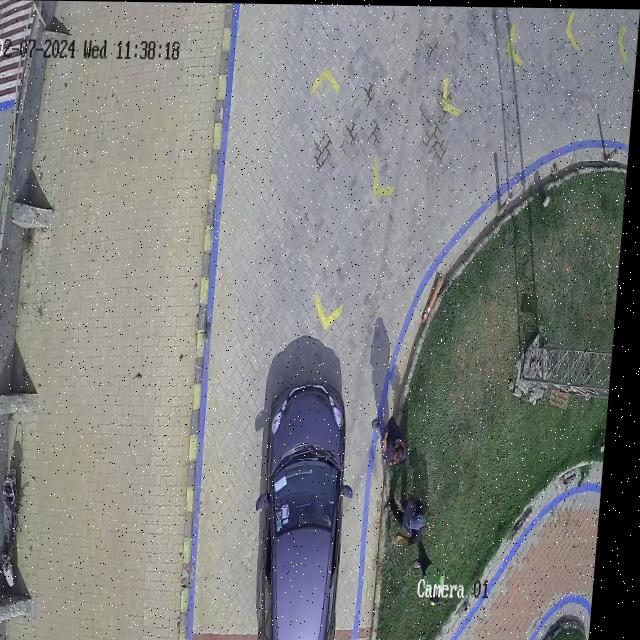car: (270, 379, 355, 640)
